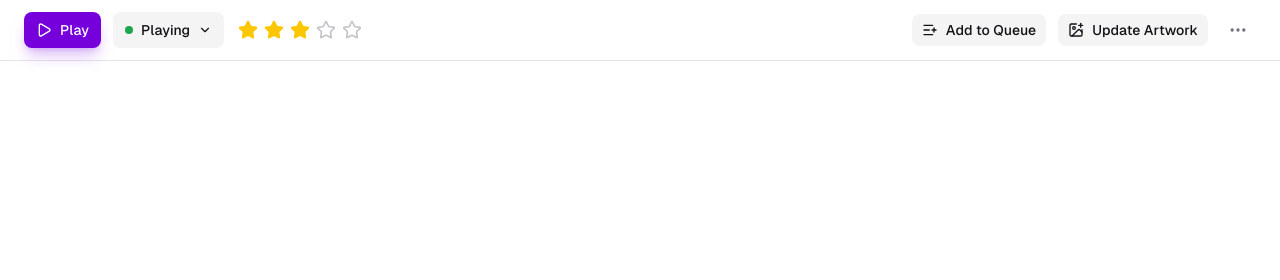
Test: Story 7.2: Action Bar › opens status dropdown and shows all statuses
Step 1. Click the button with test id "action-status" → (169, 30), box [113,12,224,48]
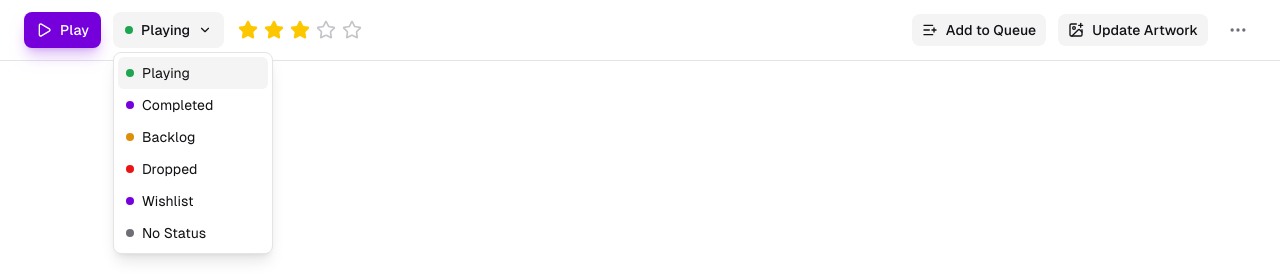
Expected: the element with test id "action-status-menu" is shown, [113,52,273,254]
Expected: the button with test id "action-status-playing" is shown, [118,57,268,89]
Expected: the button with test id "action-status-completed" is shown, [118,89,268,121]
